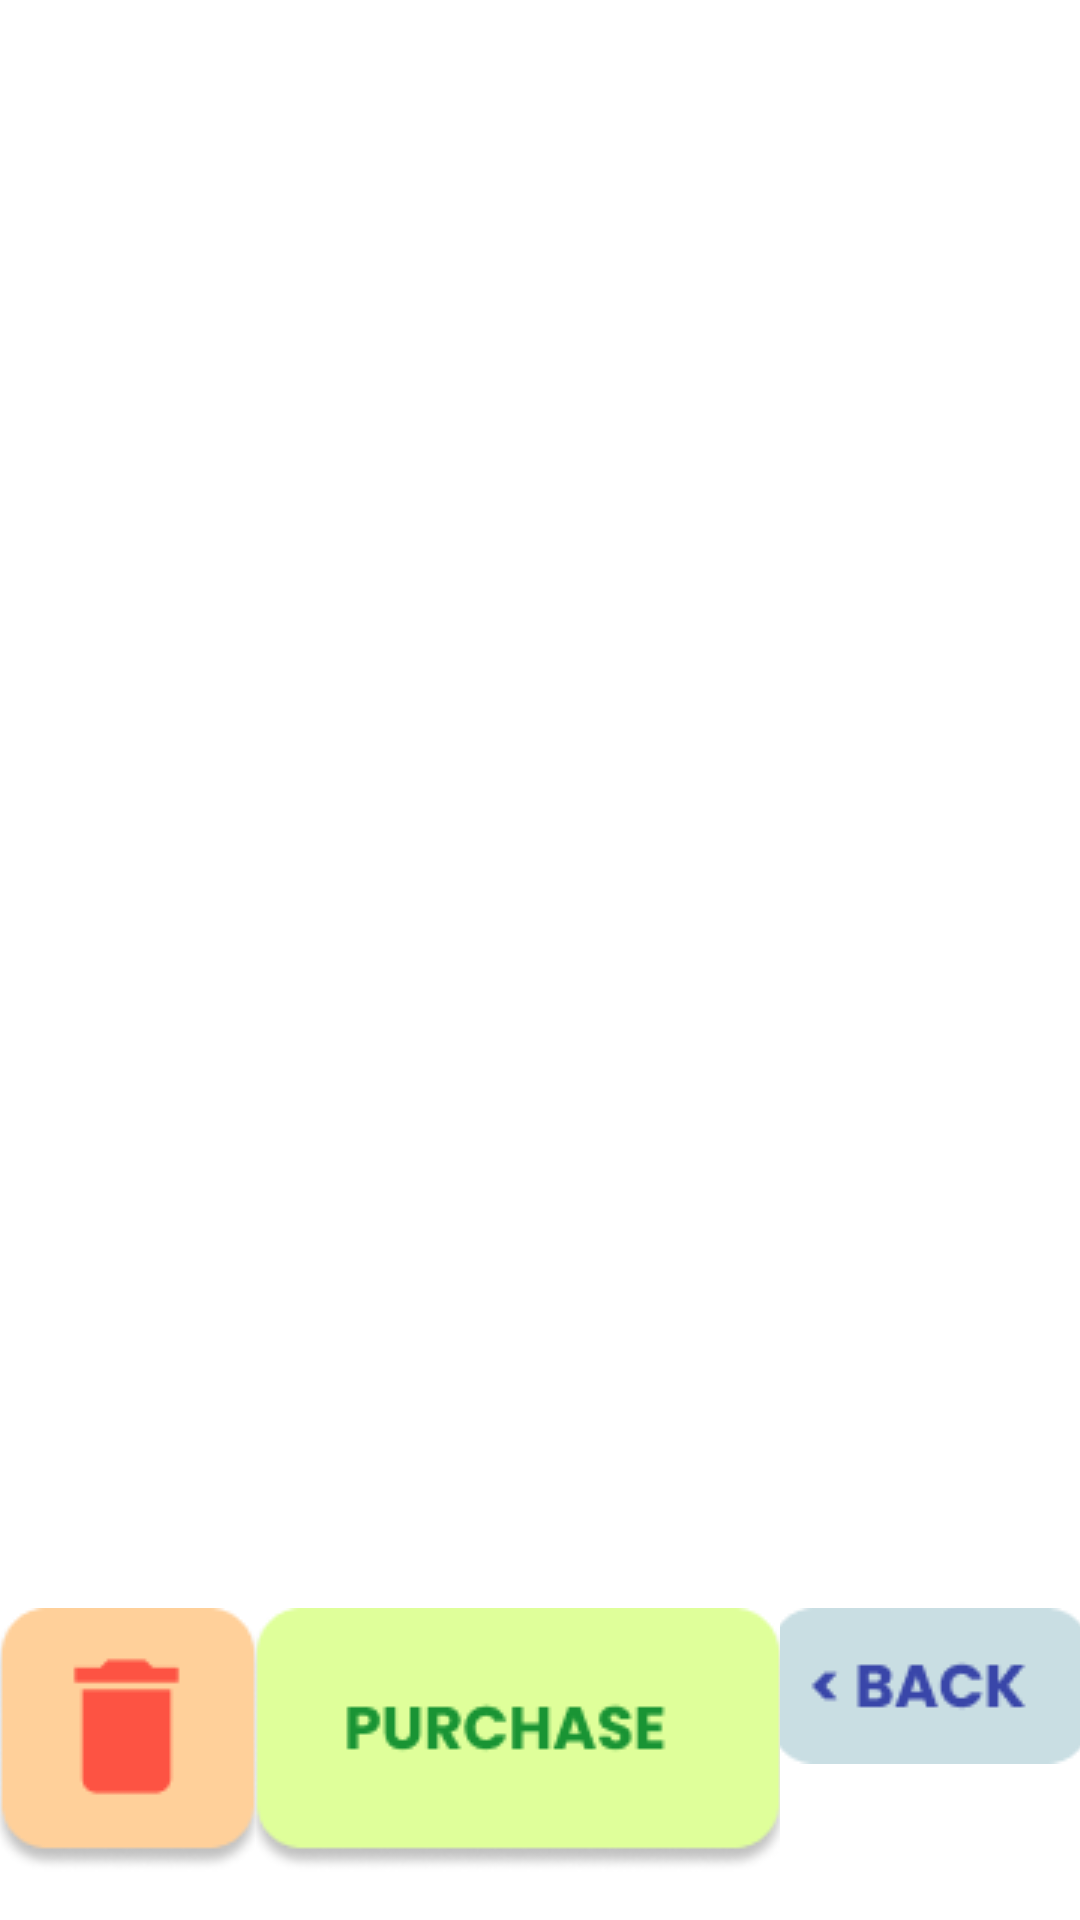

Icon bounding boxes for this 1080w x 1920h phone screenshot, format (x1, y1, x2, y2):
trash: (0, 1608, 255, 1862)
